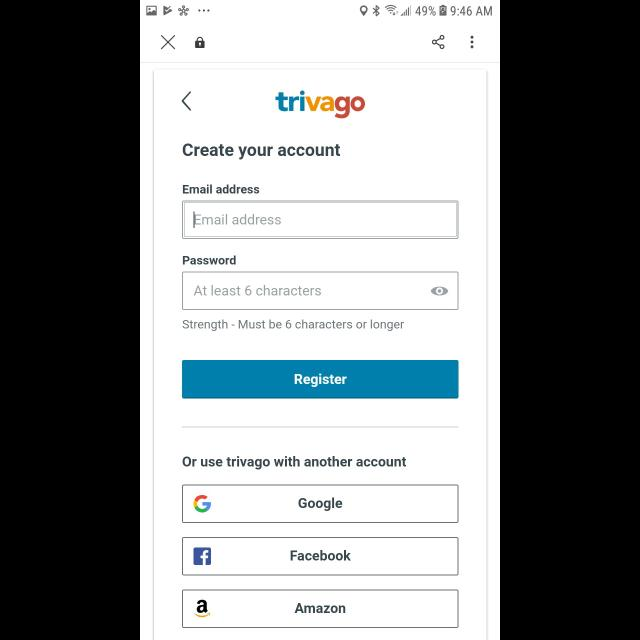icon: (160, 36, 176, 50), (182, 92, 192, 112), (432, 34, 444, 50), (430, 286, 448, 296), (195, 36, 205, 48), (471, 35, 474, 49)
image: (275, 91, 365, 119)
input: (182, 200, 458, 240), (183, 272, 459, 310)
text: (182, 456, 406, 470), (183, 319, 405, 331), (183, 144, 341, 160), (195, 284, 322, 296), (195, 214, 281, 226), (183, 184, 260, 194), (184, 255, 236, 265)
textbutton: (183, 536, 459, 576), (183, 484, 459, 524), (182, 360, 458, 400), (183, 590, 459, 628)
uppertaskbar: (140, 1, 500, 18)
